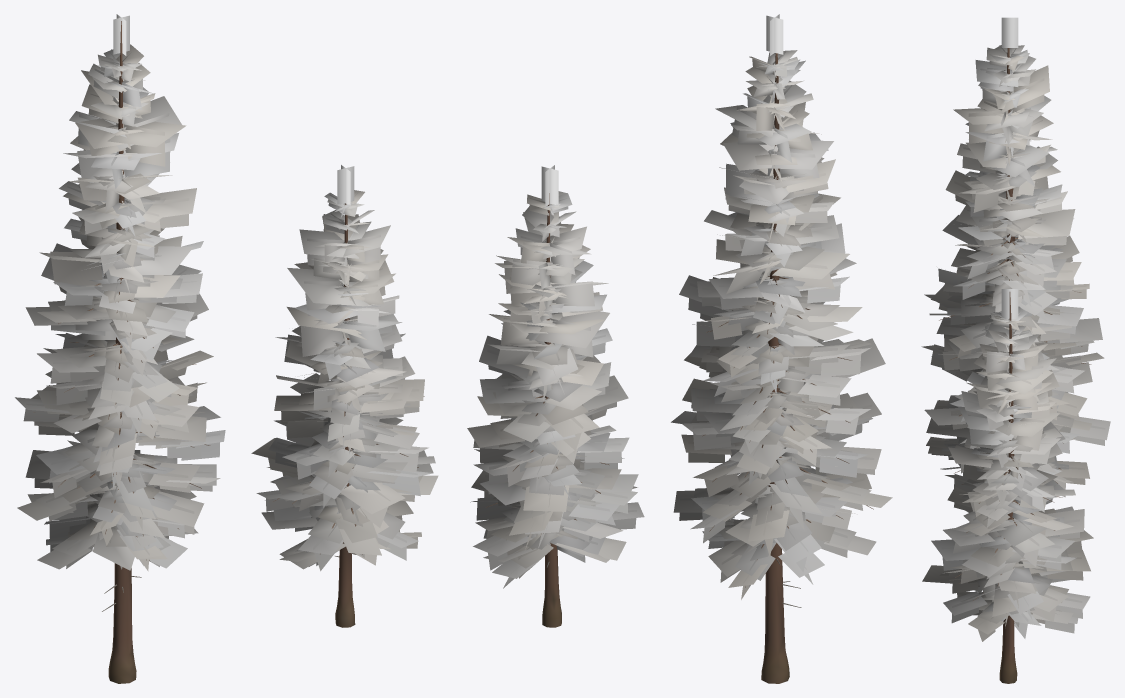
Rendered from larch.glb.
The picture shows the model from 3 angles, left to right: view 1: azimuth 30°, elevation 25°; view 2: azimuth 150°, elevation 25°; view 3: azimuth 270°, elevation 25°; orthographic projection. The views are drawn at different scales.
Parts seen in each view (by area): view 1: larch_a_leaves, larch_b_leaves, larch_a, larch_b; view 2: larch_a_leaves, larch_b_leaves, larch_a, larch_b; view 3: larch_a_leaves, larch_b_leaves, larch_b, larch_a.
Part boxes in pixels (x1,y1,x2,y2): larch_a_leaves: (15, 14, 225, 571); larch_b_leaves: (251, 165, 438, 571); larch_a: (33, 21, 210, 683); larch_b: (273, 203, 418, 627); larch_a_leaves: (671, 14, 892, 599); larch_b_leaves: (467, 165, 644, 588); larch_a: (702, 53, 873, 683); larch_b: (486, 193, 609, 627); larch_a_leaves: (921, 17, 1110, 497); larch_b_leaves: (922, 289, 1093, 641); larch_b: (955, 292, 1060, 683); larch_a: (939, 48, 1091, 483).
Bounding box in the file's own units: 14.51 × 22.51 × 6.79.
